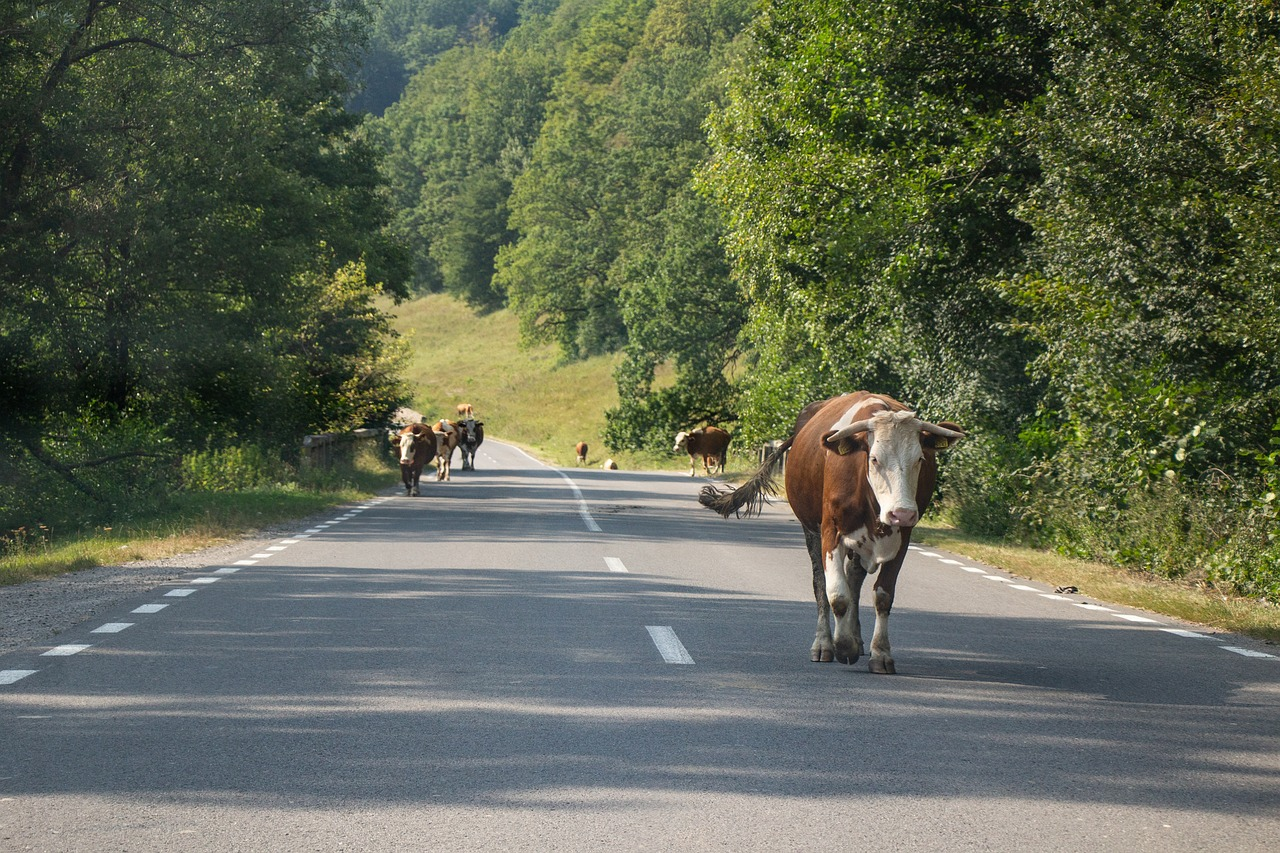inek: (779, 395, 965, 688), (672, 422, 738, 486), (387, 422, 431, 488), (429, 416, 458, 482), (455, 417, 483, 467)
